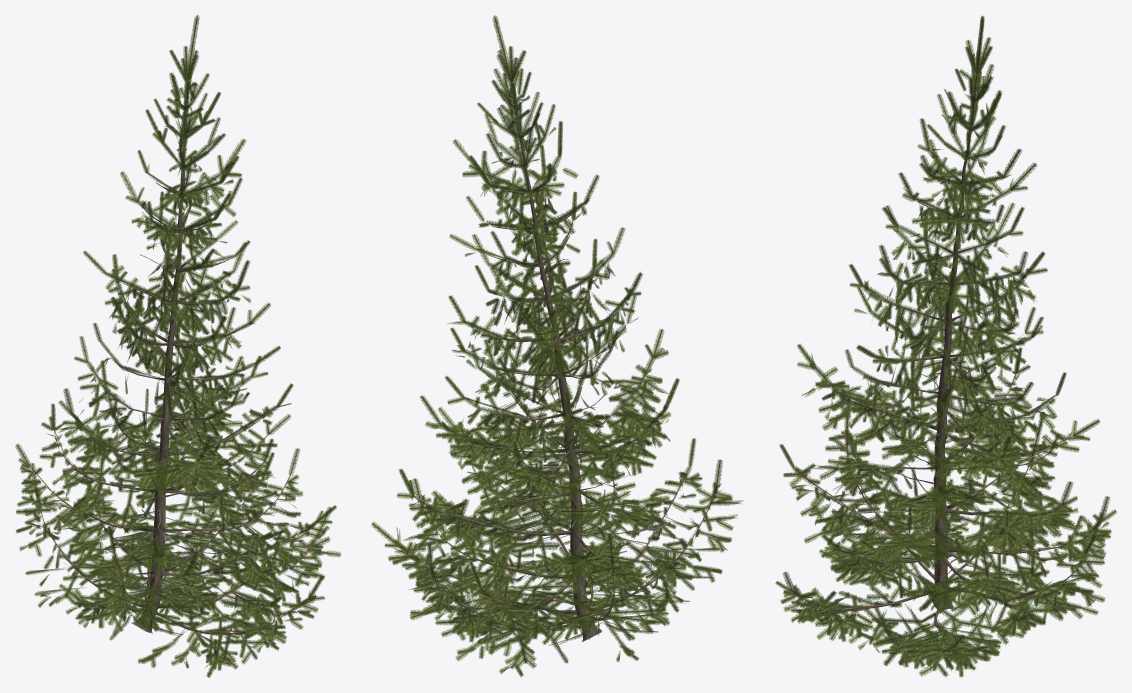
File: spruce0.glb
3 views of the same model, side by side, from view 1: azimuth 30°, elevation 25°; view 2: azimuth 150°, elevation 25°; view 3: azimuth 270°, elevation 25° (orthographic). The views are drawn at different scales.
Parts seen in each view (by area): view 1: Picea_abies_HD_Picea fol 2 short_0, Picea_abies_HD_Picea fol 1_0, Picea_abies_HD_Picea fol 2_0, Picea_abies_HD_Picea branch_0, Picea_abies_HD_Picea abies bark 1_0, Picea_abies_HD_Picea fol 1 dying_0, Picea_abies_HD_Picea fol 1 dead_0, Picea_abies_HD_Picea abies brch dead_0; view 2: Picea_abies_HD_Picea fol 2 short_0, Picea_abies_HD_Picea fol 1_0, Picea_abies_HD_Picea fol 2_0, Picea_abies_HD_Picea branch_0, Picea_abies_HD_Picea abies bark 1_0, Picea_abies_HD_Picea fol 1 dying_0, Picea_abies_HD_Picea abies brch dead_0; view 3: Picea_abies_HD_Picea fol 2 short_0, Picea_abies_HD_Picea fol 1_0, Picea_abies_HD_Picea fol 2_0, Picea_abies_HD_Picea branch_0, Picea_abies_HD_Picea abies bark 1_0, Picea_abies_HD_Picea fol 1 dying_0.
Part boxes in pixels (x1=…): Picea_abies_HD_Picea fol 2 short_0: x1=15, y1=82, x2=340, y2=677; Picea_abies_HD_Picea fol 1_0: x1=21, y1=80, x2=326, y2=665; Picea_abies_HD_Picea fol 2_0: x1=15, y1=46, x2=336, y2=601; Picea_abies_HD_Picea branch_0: x1=46, y1=96, x2=294, y2=648; Picea_abies_HD_Picea abies bark 1_0: x1=131, y1=168, x2=185, y2=633; Picea_abies_HD_Picea fol 1 dying_0: x1=34, y1=475, x2=318, y2=635; Picea_abies_HD_Picea fol 1 dead_0: x1=30, y1=413, x2=290, y2=529; Picea_abies_HD_Picea abies brch dead_0: x1=73, y1=418, x2=226, y2=600; Picea_abies_HD_Picea fol 2 short_0: x1=388, y1=71, x2=743, y2=677; Picea_abies_HD_Picea fol 1_0: x1=402, y1=80, x2=732, y2=668; Picea_abies_HD_Picea fol 2_0: x1=371, y1=46, x2=722, y2=638; Picea_abies_HD_Picea branch_0: x1=439, y1=106, x2=688, y2=639; Picea_abies_HD_Picea abies bark 1_0: x1=524, y1=166, x2=601, y2=641; Picea_abies_HD_Picea fol 1 dying_0: x1=397, y1=449, x2=718, y2=628; Picea_abies_HD_Picea abies brch dead_0: x1=534, y1=395, x2=669, y2=604; Picea_abies_HD_Picea fol 2 short_0: x1=780, y1=69, x2=1111, y2=677; Picea_abies_HD_Picea fol 1_0: x1=791, y1=74, x2=1110, y2=670; Picea_abies_HD_Picea fol 2_0: x1=775, y1=37, x2=1116, y2=663; Picea_abies_HD_Picea branch_0: x1=817, y1=101, x2=1081, y2=646; Picea_abies_HD_Picea abies bark 1_0: x1=932, y1=158, x2=967, y2=613; Picea_abies_HD_Picea fol 1 dying_0: x1=791, y1=428, x2=1101, y2=651.
Bounding box in the file's own units: 3.15 × 6.2 × 2.99.
Materials: 12 (12 with a texture image).
